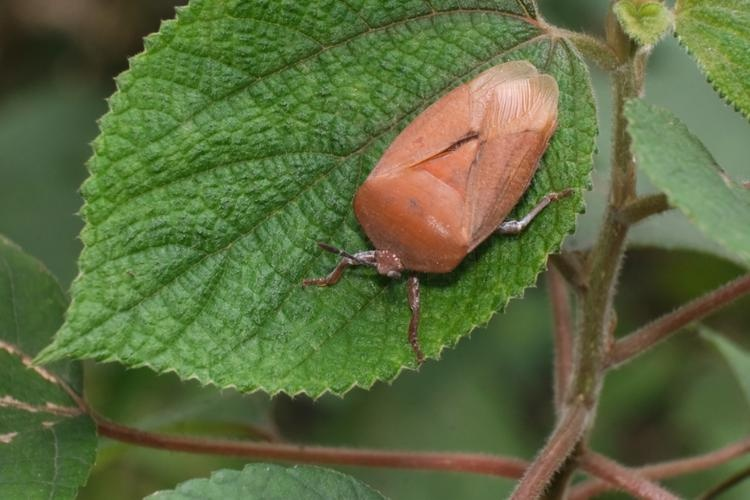Stink_Bug: (369, 40, 563, 300)
